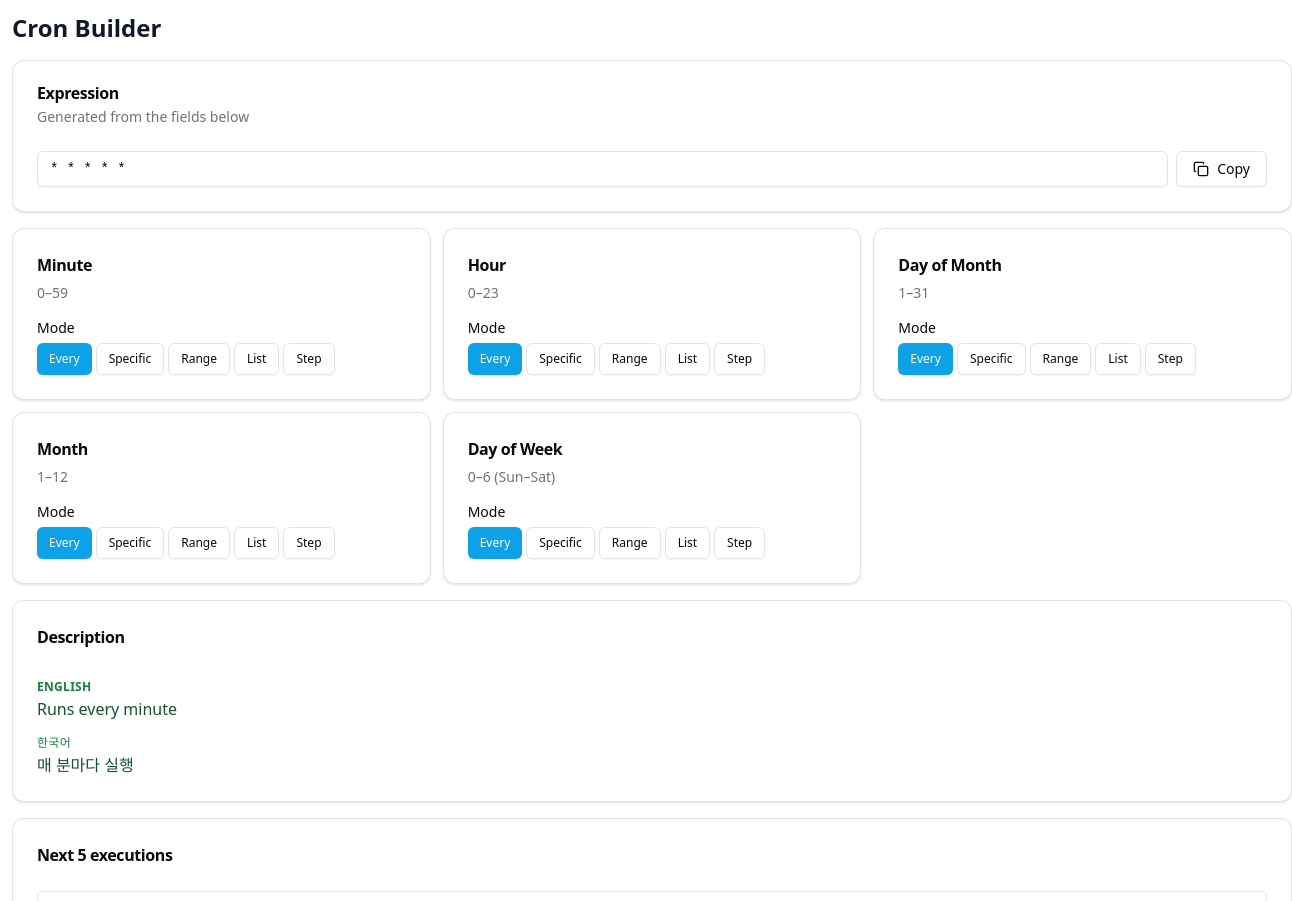
Test case: CronBuilder › mode interactions › setting minute=15 hour=9 (specific) produces 15 9 * * *
Click the button "specific" below "0–59" at (130, 359), box [96, 343, 164, 375]
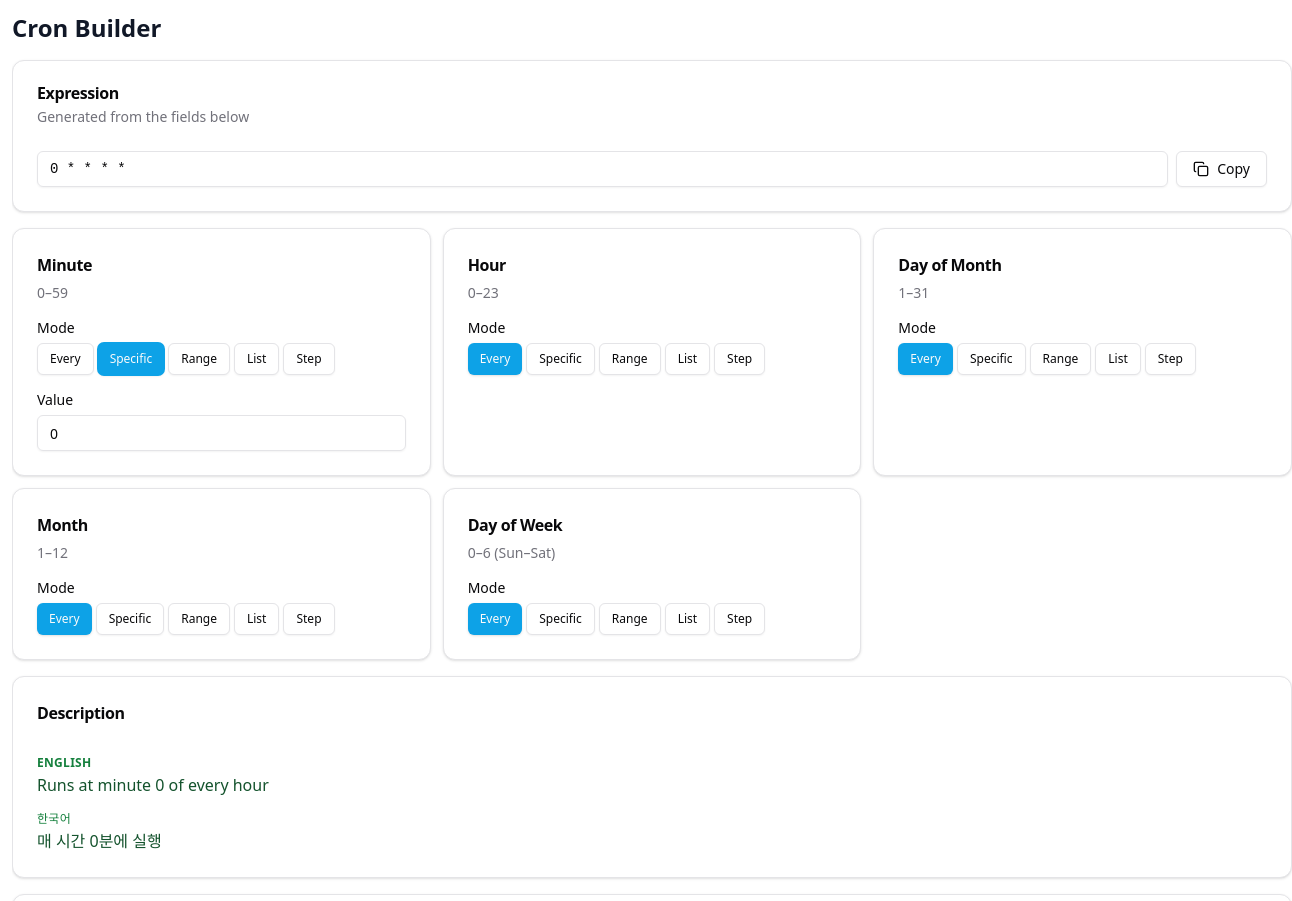
Replace the text in the number field with test id "specific-minute" with "15" at (221, 433), box [37, 415, 406, 451]
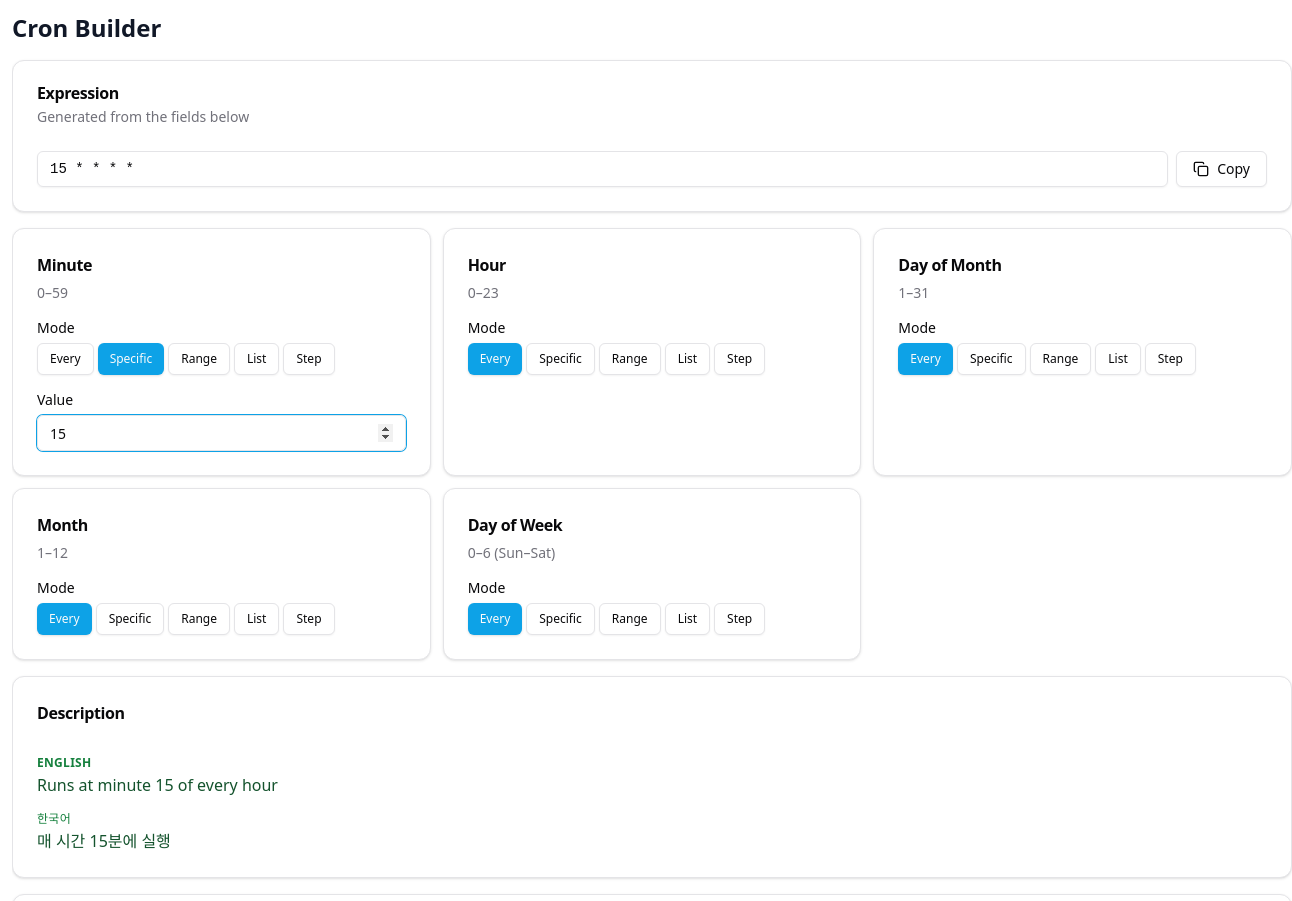
Click the button "specific" below "0–23" at (561, 359), box [526, 343, 595, 375]
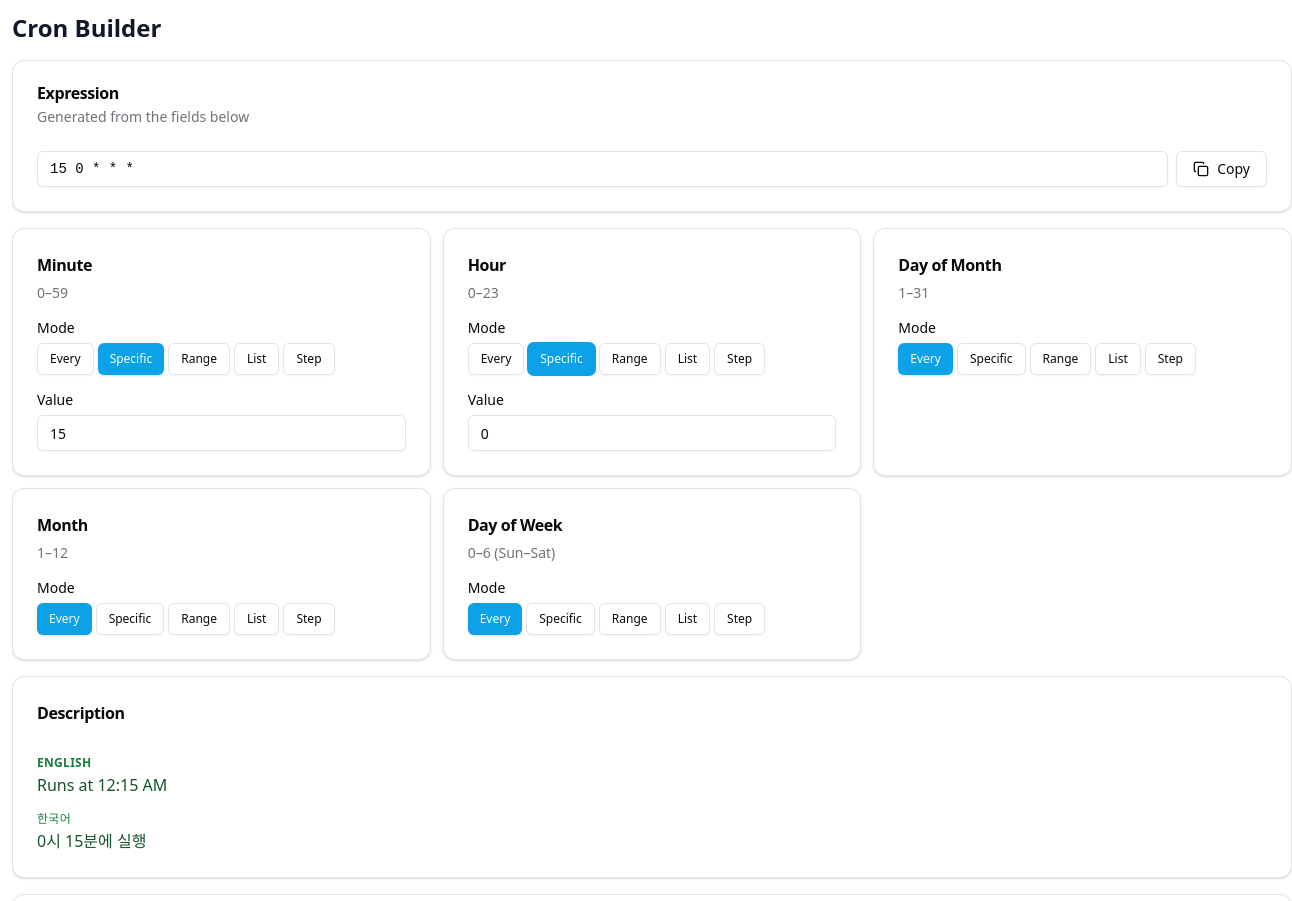
Replace the text in the number field with test id "specific-hour" with "9" at (652, 433), box [468, 415, 836, 451]
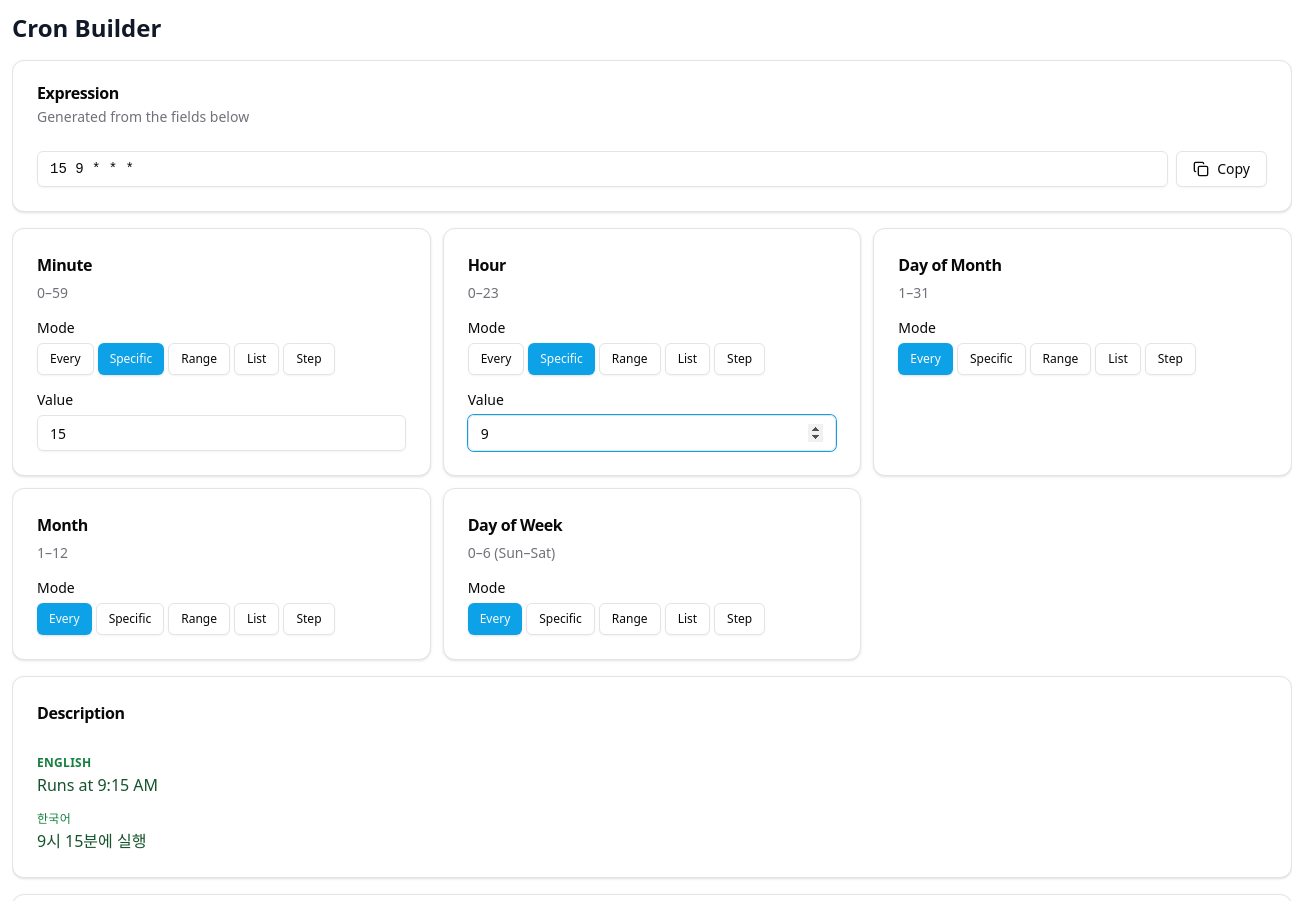
Expected: the field with test id "cron-output" holds "15 9 * * *", [37, 151, 1168, 187]
